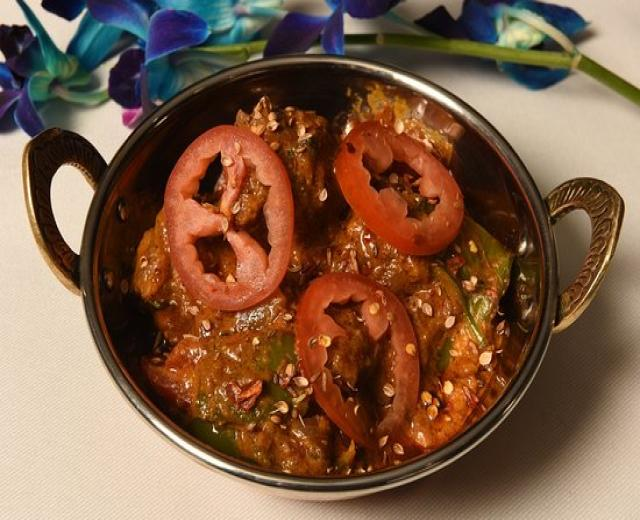kadai paneer: (134, 84, 514, 475)
